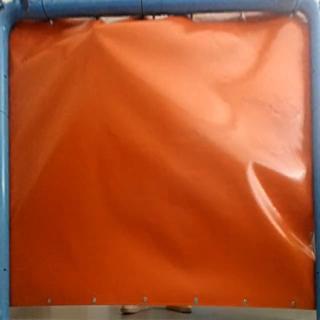Hit-hRxx: (88, 22, 104, 35)
